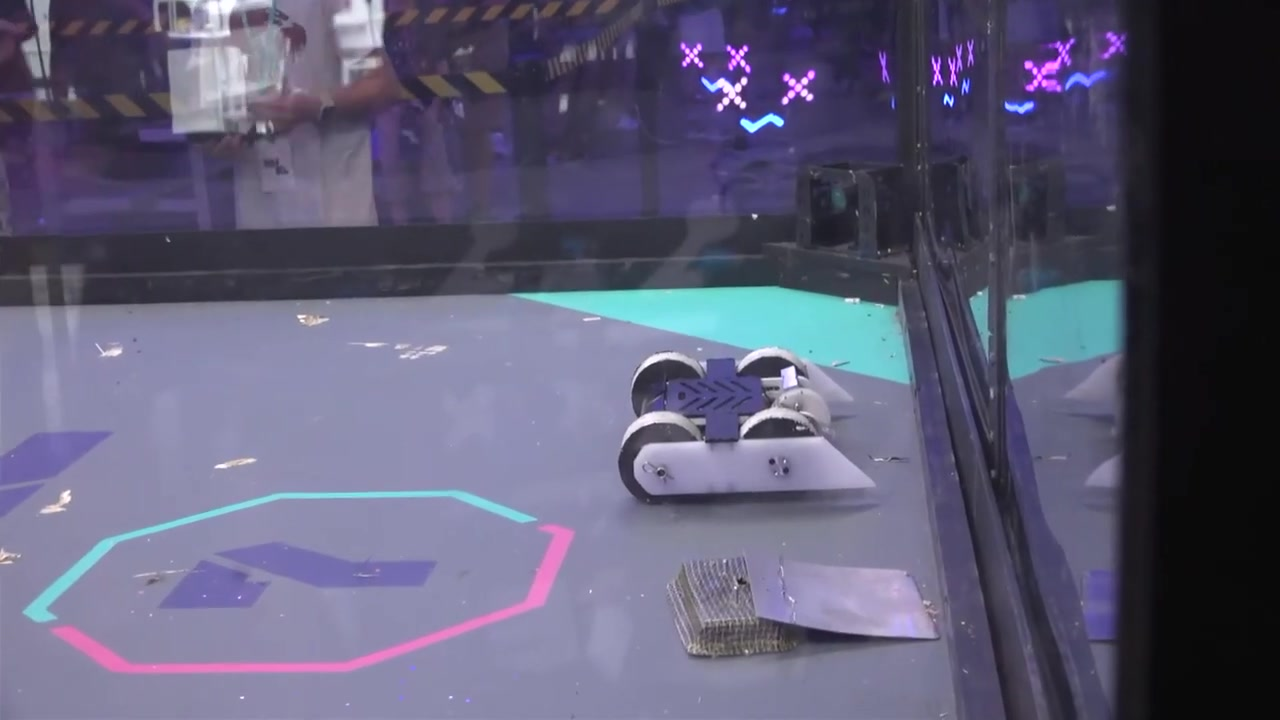combatbot: (621, 344, 872, 508), (667, 556, 937, 658)
